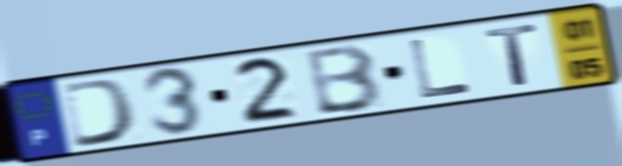2: (231, 54, 304, 127)
3: (140, 64, 207, 141)
B: (304, 42, 387, 118)
D: (59, 76, 142, 151)
L: (405, 36, 475, 102)
T: (481, 21, 542, 89)
